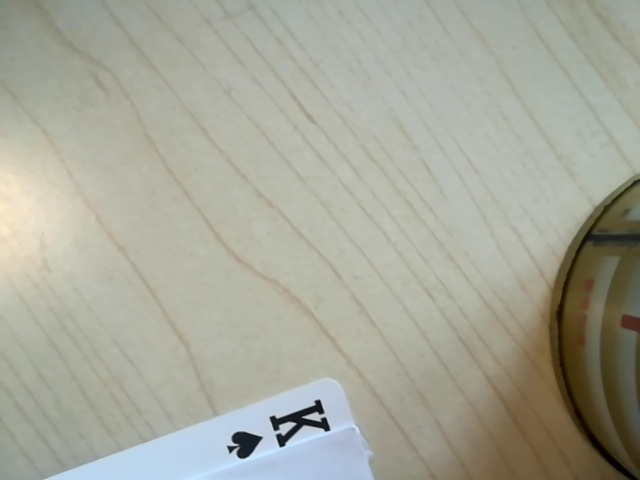ht k: (200, 395, 347, 465)
